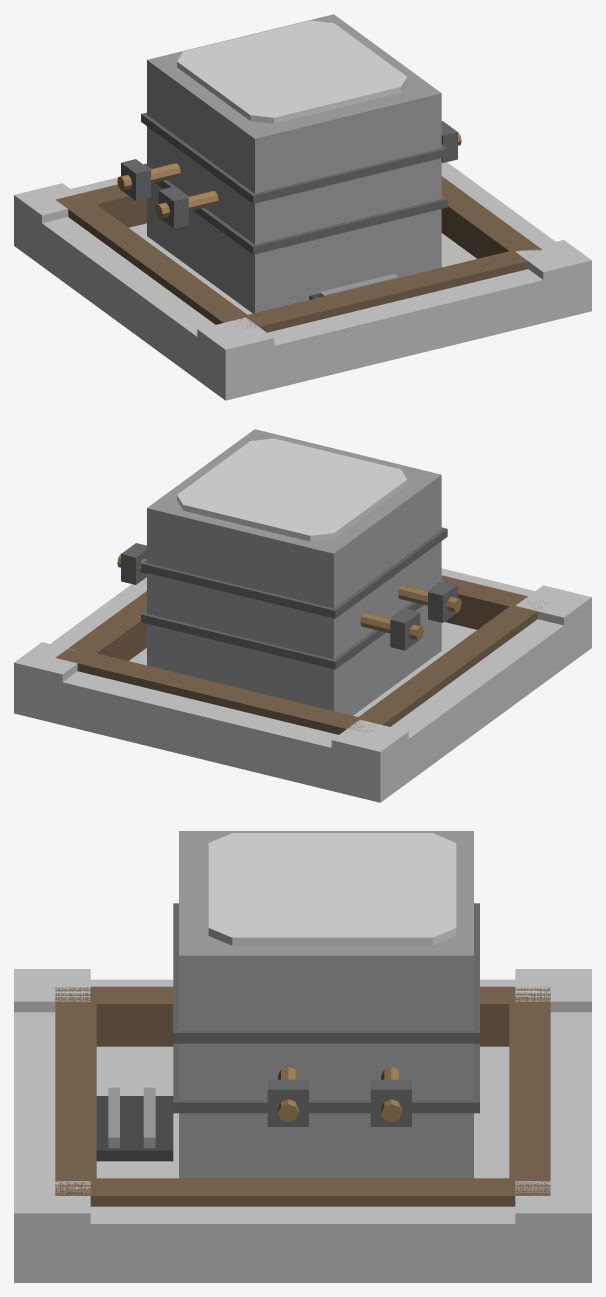
Rendered from vge_maintenance_hub.obj.
3 renders of one model, top to bottom at view 1: azimuth 30°, elevation 25°; view 2: azimuth 150°, elevation 25°; view 3: azimuth 270°, elevation 25°, orthographic. The views are drawn at different scales.
Visible parts, largest first — view 1: vge_maintenance_hub_13, vge_maintenance_hub_1, vge_maintenance_hub_16, vge_maintenance_hub_0, vge_maintenance_hub_3, vge_maintenance_hub_9, vge_maintenance_hub_11, vge_maintenance_hub_5, vge_maintenance_hub_7, vge_maintenance_hub_12, vge_maintenance_hub_15, vge_maintenance_hub_14 (+9 smaller); view 2: vge_maintenance_hub_13, vge_maintenance_hub_2, vge_maintenance_hub_16, vge_maintenance_hub_0, vge_maintenance_hub_3, vge_maintenance_hub_10, vge_maintenance_hub_11, vge_maintenance_hub_15, vge_maintenance_hub_8, vge_maintenance_hub_6, vge_maintenance_hub_14, vge_maintenance_hub_12 (+9 smaller); view 3: vge_maintenance_hub_13, vge_maintenance_hub_4, vge_maintenance_hub_16, vge_maintenance_hub_0, vge_maintenance_hub_12, vge_maintenance_hub_1, vge_maintenance_hub_2, vge_maintenance_hub_9, vge_maintenance_hub_10, vge_maintenance_hub_11, vge_maintenance_hub_15, vge_maintenance_hub_7 (+12 smaller).
Part boxes in pixels (x1,y1,x2,y2): vge_maintenance_hub_13: (147, 14, 441, 313); vge_maintenance_hub_1: (210, 269, 591, 400); vge_maintenance_hub_16: (177, 20, 407, 123); vge_maintenance_hub_0: (14, 223, 591, 400); vge_maintenance_hub_3: (29, 214, 215, 387); vge_maintenance_hub_9: (221, 244, 542, 332); vge_maintenance_hub_11: (70, 204, 247, 324); vge_maintenance_hub_5: (197, 317, 274, 399); vge_maintenance_hub_7: (515, 240, 591, 322); vge_maintenance_hub_12: (441, 176, 534, 258); vge_maintenance_hub_15: (141, 112, 447, 203); vge_maintenance_hub_14: (143, 163, 447, 254); vge_maintenance_hub_13: (147, 429, 441, 715); vge_maintenance_hub_2: (14, 670, 395, 801); vge_maintenance_hub_16: (177, 438, 407, 541); vge_maintenance_hub_0: (14, 622, 591, 802); vge_maintenance_hub_3: (391, 616, 576, 790); vge_maintenance_hub_10: (55, 647, 384, 734); vge_maintenance_hub_11: (358, 606, 535, 726); vge_maintenance_hub_15: (141, 527, 447, 618); vge_maintenance_hub_8: (14, 642, 77, 721); vge_maintenance_hub_6: (331, 719, 408, 802); vge_maintenance_hub_14: (141, 578, 447, 669); vge_maintenance_hub_12: (70, 591, 146, 660); vge_maintenance_hub_13: (179, 831, 473, 1178); vge_maintenance_hub_4: (55, 1206, 550, 1282); vge_maintenance_hub_16: (208, 833, 456, 945); vge_maintenance_hub_0: (14, 1046, 591, 1282); vge_maintenance_hub_12: (96, 1178, 509, 1206); vge_maintenance_hub_1: (14, 1012, 55, 1282); vge_maintenance_hub_2: (550, 1012, 591, 1282); vge_maintenance_hub_9: (55, 986, 96, 1206); vge_maintenance_hub_10: (509, 986, 550, 1206); vge_maintenance_hub_11: (96, 986, 509, 1046); vge_maintenance_hub_15: (173, 903, 479, 1043); vge_maintenance_hub_7: (14, 1181, 90, 1282).
Bounding box in the file's own units: 1.96 × 1.03 × 1.96.
